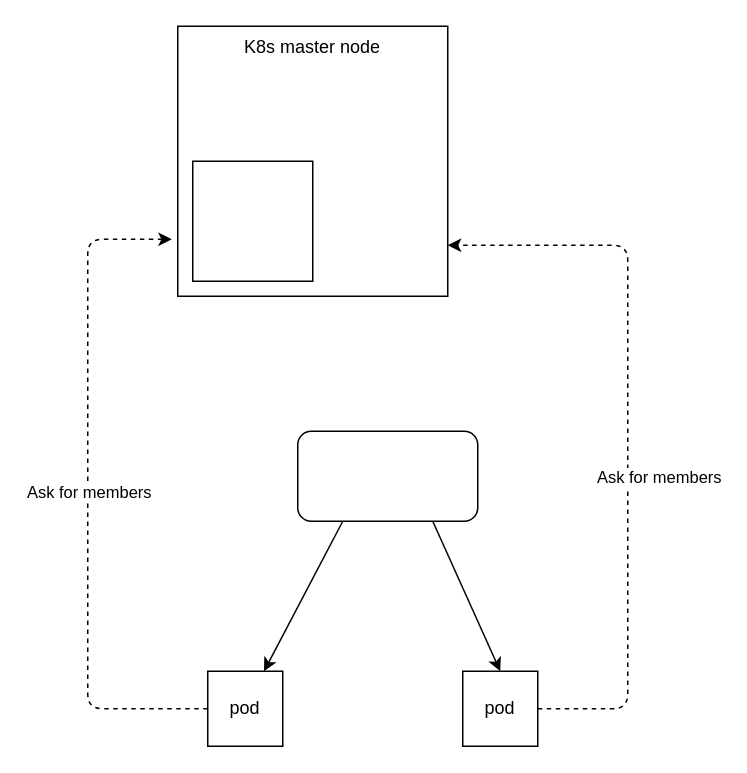
Image size: 747x773. Some labels were removed from this diagram. Here are the shapes that lost their labels. From the top down, the centre of each, then its label:
[252,220]: API Server
[387,475]: id-withdraw-production-svc
